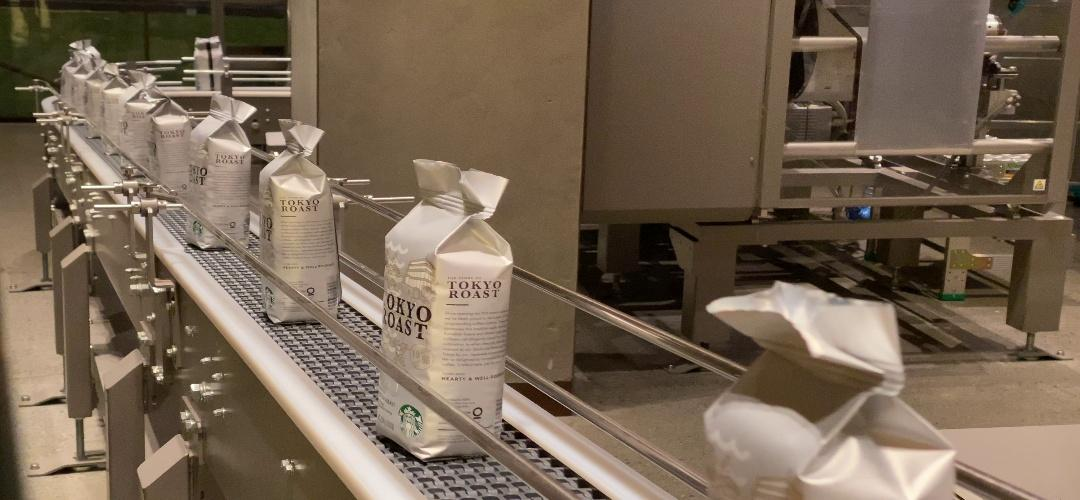conveyor: (705, 418, 953, 500), (385, 238, 507, 358), (259, 175, 333, 256), (186, 135, 252, 206)
